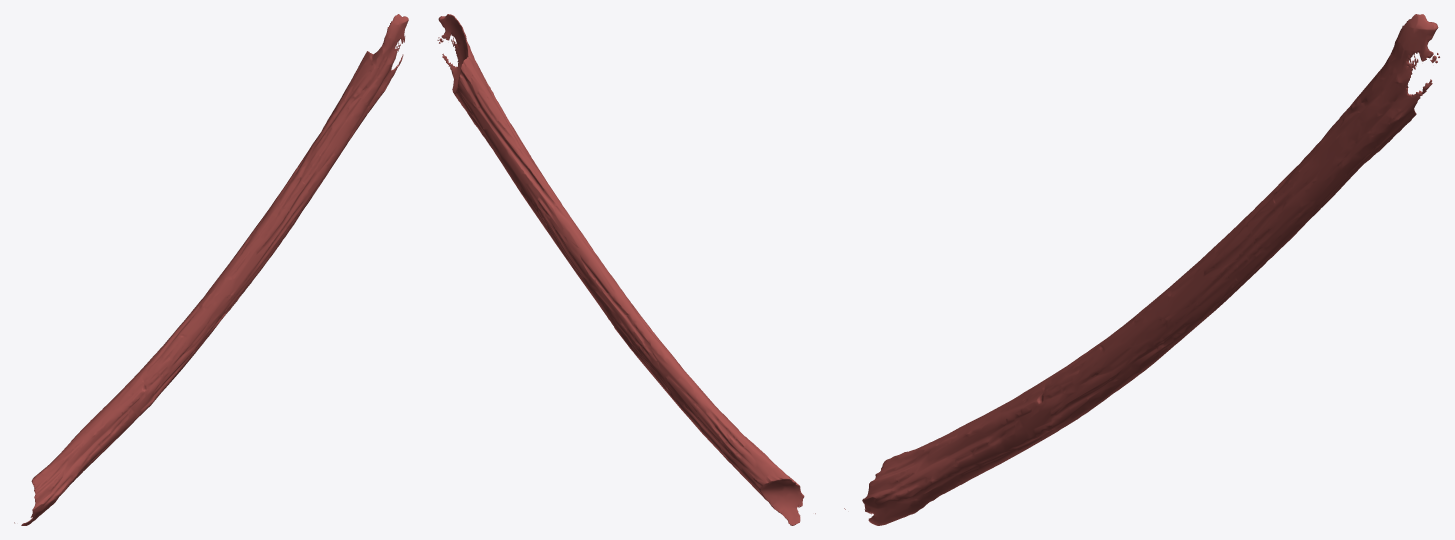
The model's file is FMA21965.glb.
The picture shows the model from 3 angles, left to right: view 1: azimuth 30°, elevation 25°; view 2: azimuth 150°, elevation 25°; view 3: azimuth 330°, elevation 25°; orthographic projection. The views are drawn at different scales.
Parts seen in each view (by area): view 1: FMA21965; view 2: FMA21965; view 3: FMA21965.
Part boxes in pixels (x1,y1,x2,y2): FMA21965: (14, 14, 408, 525); FMA21965: (437, 14, 815, 525); FMA21965: (844, 14, 1439, 525).
Size of the model in its own units: 0.1041 by 0.1095 by 0.00908.
